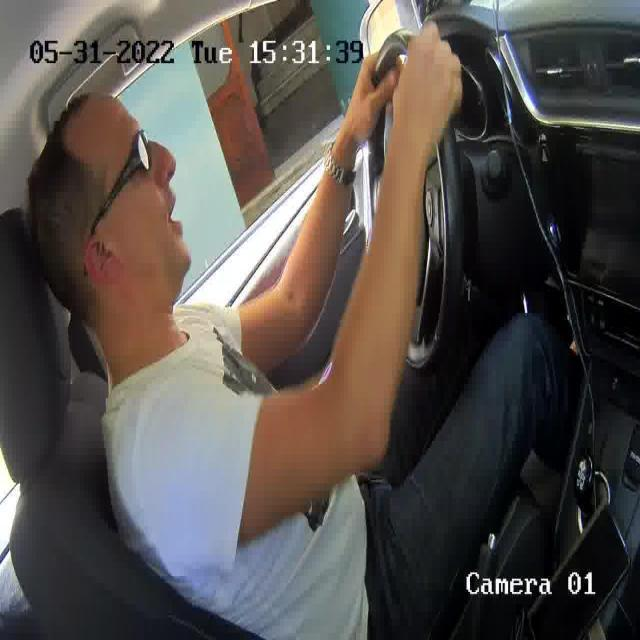Inattentive: (27, 90, 192, 322)
Yawning: (156, 196, 187, 238)
